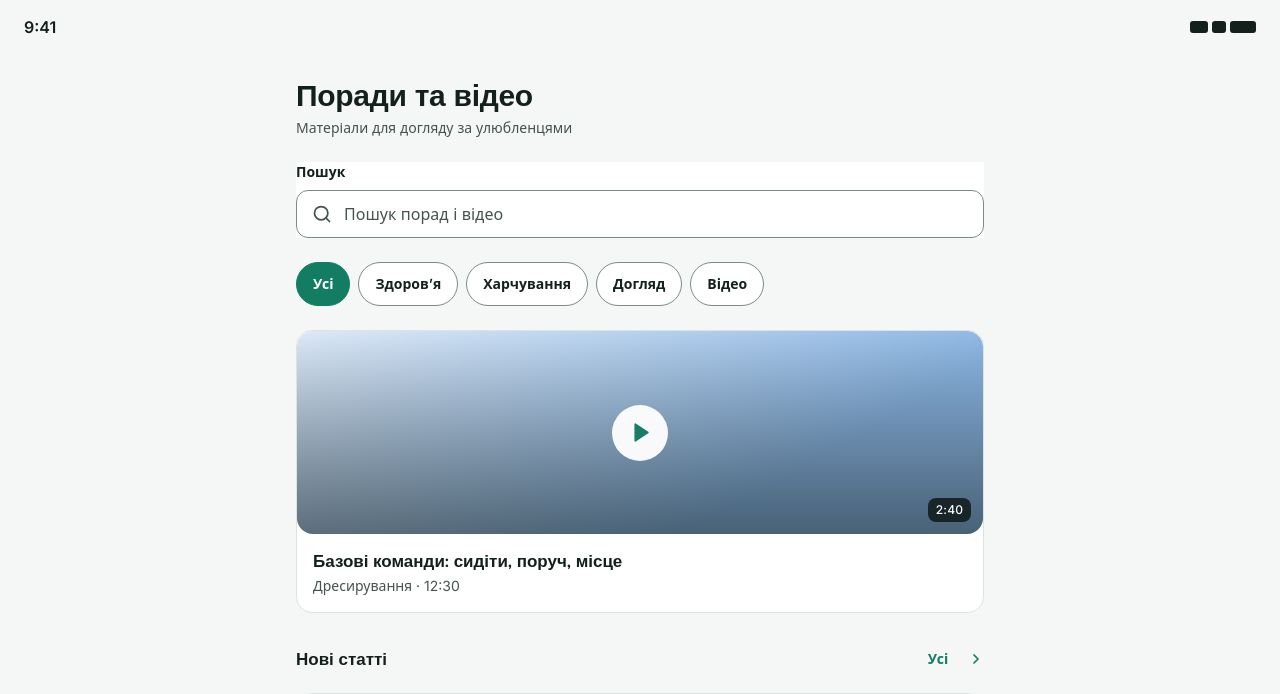
Scenario: Екран «Поради та відео» › фільтр «Відео» ховає статті
The image size is (1280, 694).
Check: the heading "Нові статті" is shown, box 296,648 -> 387,671
Click the radio button labelled "Відео": (727, 284) 690,262 -> 764,306
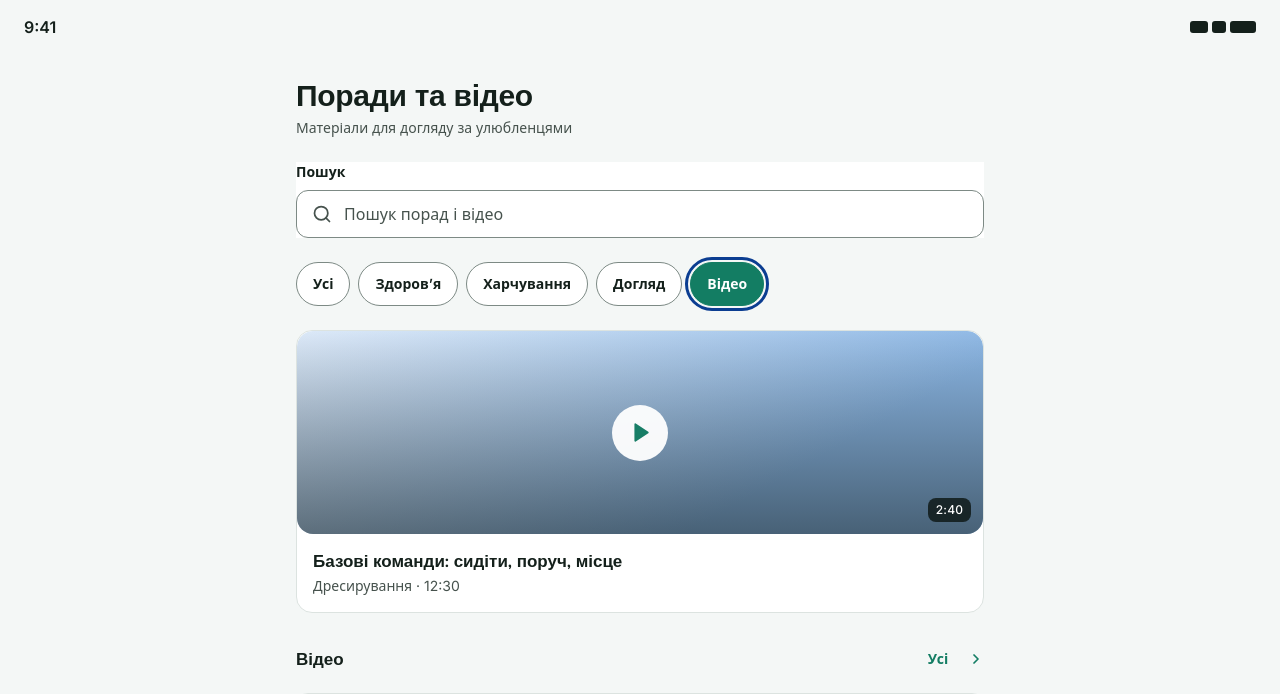
Check: the heading "Нові статті" is gone
